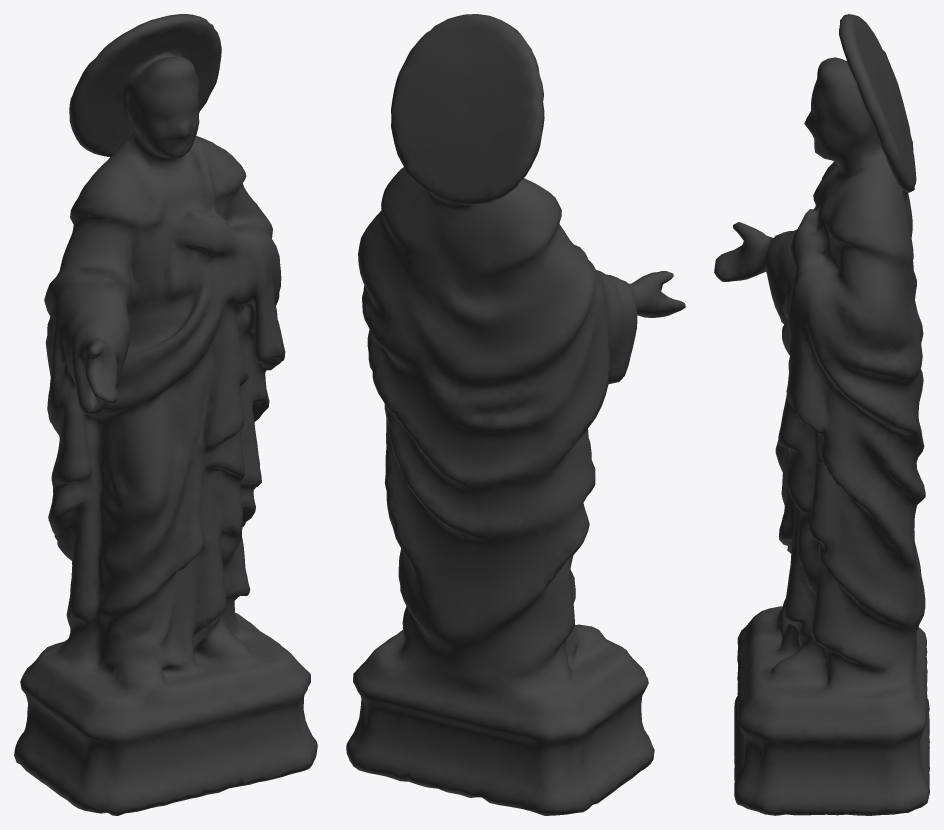
Rendered from sao-dora.glb.
3 renders of one model, left to right at view 1: azimuth 30°, elevation 25°; view 2: azimuth 150°, elevation 25°; view 3: azimuth 270°, elevation 25°, orthographic.
Parts seen in each view (by area): view 1: geometry_0; view 2: geometry_0; view 3: geometry_0.
Part boxes in pixels (left/top/right/bottom): geometry_0: left=14, top=14, right=317, bottom=815; geometry_0: left=346, top=14, right=685, bottom=815; geometry_0: left=714, top=14, right=929, bottom=815.
Size of the model in its own units: 1.05 by 3 by 0.7931.
Materials: 1 (1 with a texture image).
